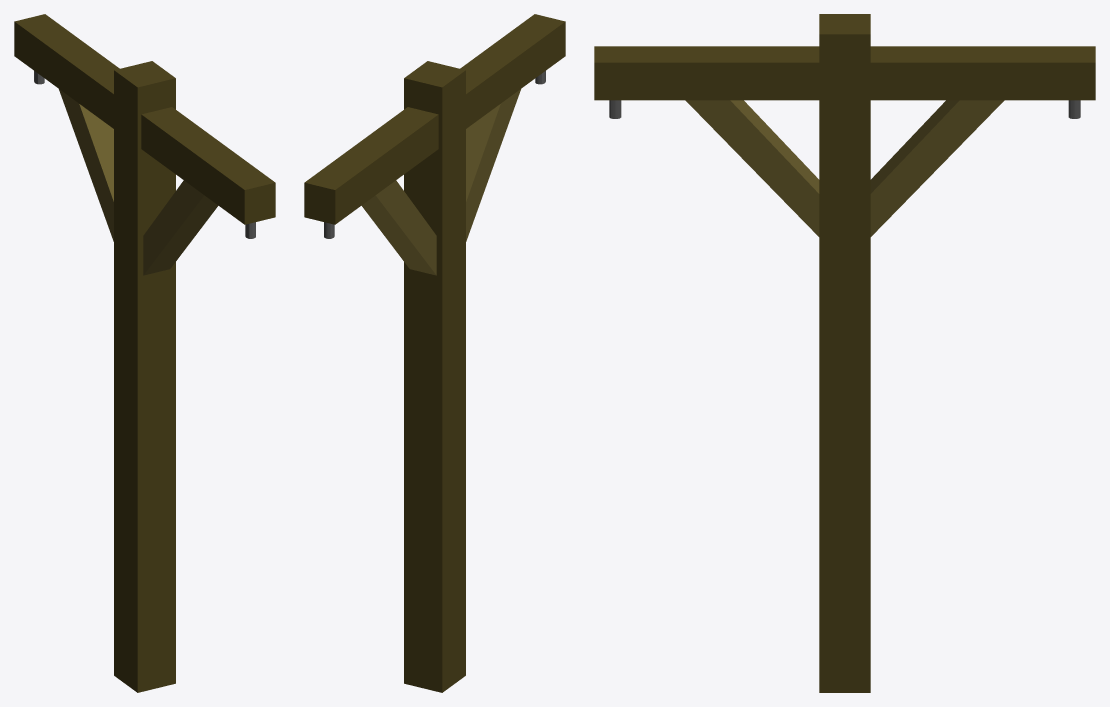
The model's file is Lightposts.fbx.
3 renders of one model, left to right at view 1: azimuth 30°, elevation 25°; view 2: azimuth 150°, elevation 25°; view 3: azimuth 270°, elevation 25°, orthographic. The views are drawn at different scales.
Parts seen in each view (by area): view 1: Lightpost01, Lightpost02; view 2: Lightpost01, Lightpost02; view 3: Lightpost01, Lightpost02.
Part boxes in pixels (x1=…): Lightpost01: x1=14, y1=14, x2=183, y2=692; Lightpost02: x1=114, y1=61, x2=275, y2=692; Lightpost01: x1=304, y1=61, x2=473, y2=692; Lightpost02: x1=406, y1=14, x2=565, y2=692; Lightpost01: x1=793, y1=14, x2=1095, y2=692; Lightpost02: x1=594, y1=14, x2=870, y2=692.
Size of the model in its own units: 0.1922 by 2.92 by 2.01.
